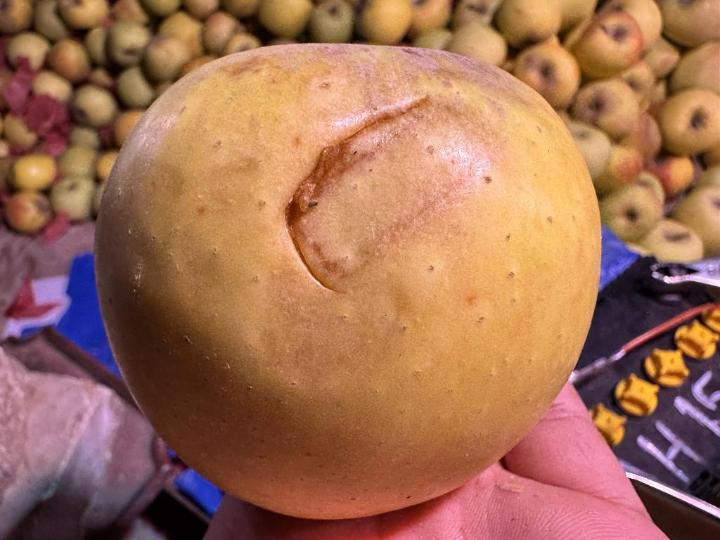apple: (96, 44, 600, 518)
surface_damage: (276, 87, 447, 300)
